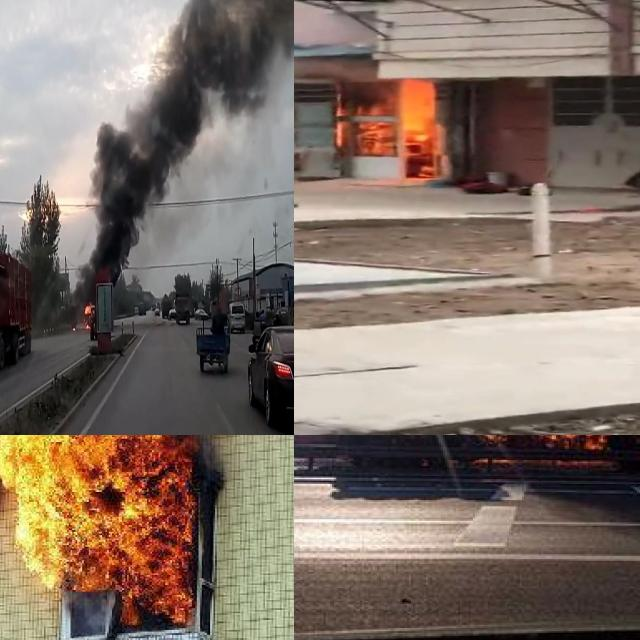fire: (0, 435, 220, 631), (327, 80, 445, 160), (82, 300, 95, 334)
smoke: (156, 0, 276, 113), (110, 82, 202, 178), (93, 115, 160, 244), (181, 0, 294, 66), (92, 192, 142, 270)
